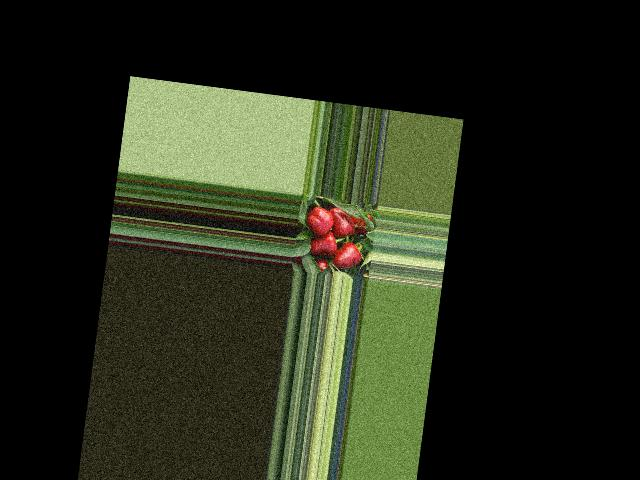bell_pepper: (304, 203, 335, 243)
